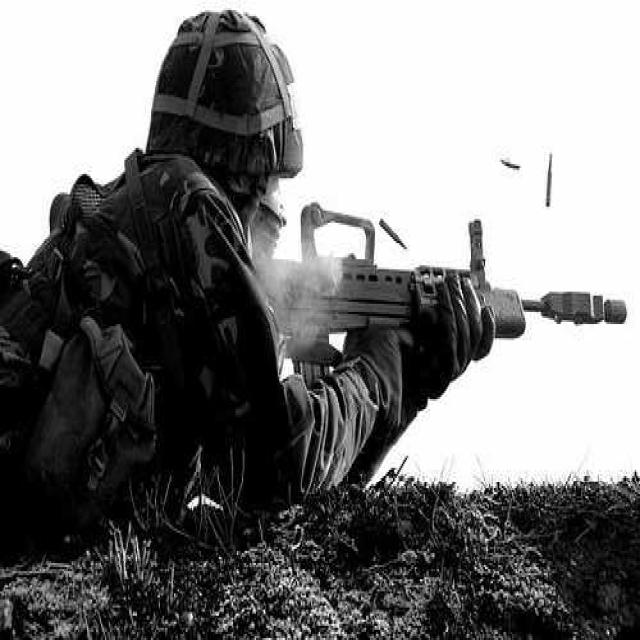Rifle: (236, 198, 635, 378)
